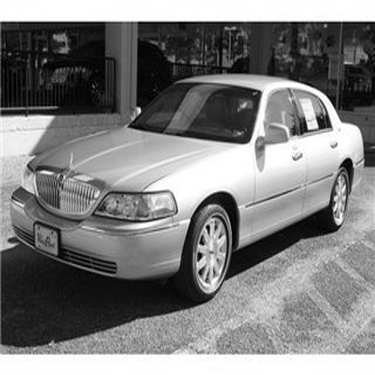car: (4, 70, 369, 308), (22, 38, 177, 104), (291, 54, 371, 98), (217, 56, 285, 83)
